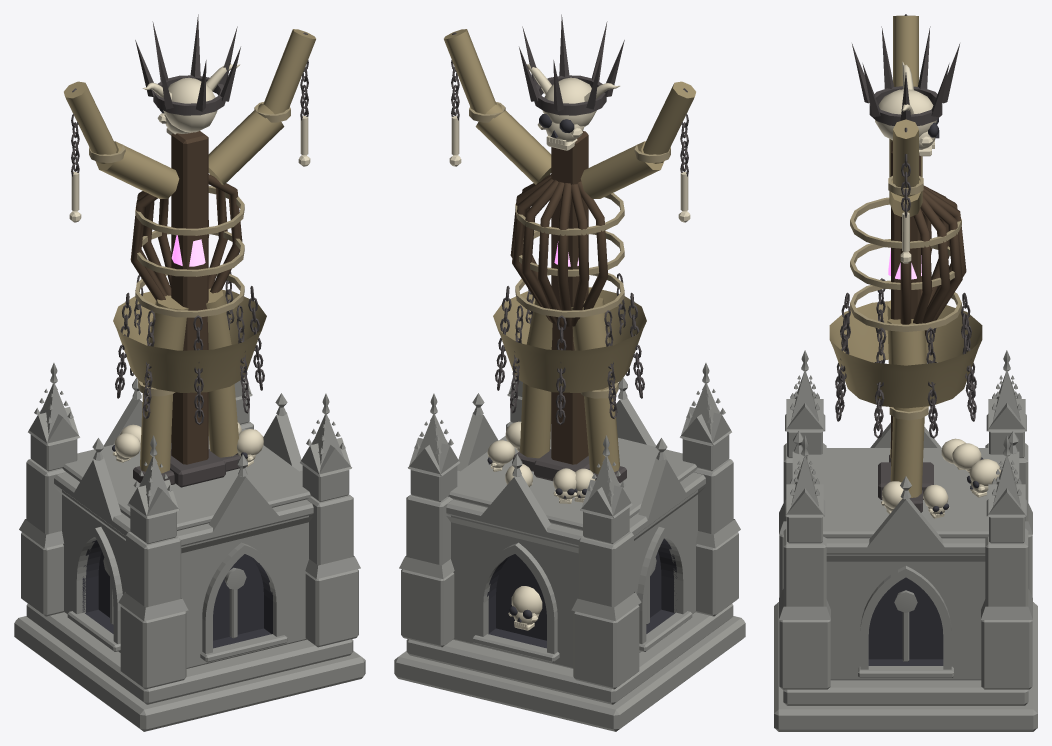
File: tower_effigy_3.glb
3 renders of one model, left to right at view 1: azimuth 30°, elevation 25°; view 2: azimuth 150°, elevation 25°; view 3: azimuth 270°, elevation 25°, orthographic.
Parts seen in each view (by area): view 1: tower; view 2: tower; view 3: tower.
Part boxes in pixels (x1,y1,x2,y2): tower: (14, 14, 365, 731); tower: (394, 14, 745, 731); tower: (774, 14, 1037, 731).
Size of the model in its own units: 1.88 by 4.48 by 1.7.
